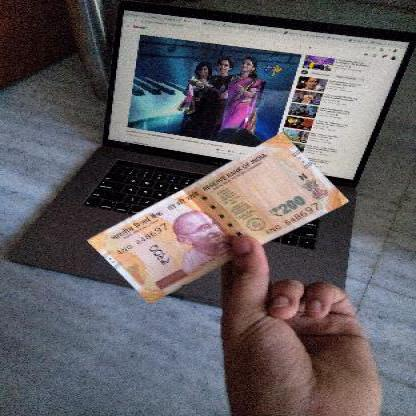New200Front: (93, 132, 351, 301)
